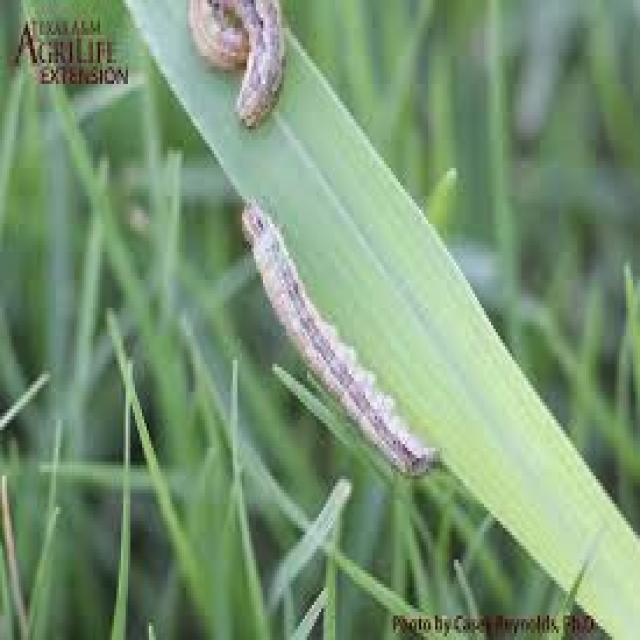armyworm: (239, 195, 443, 483), (176, 1, 300, 131)
